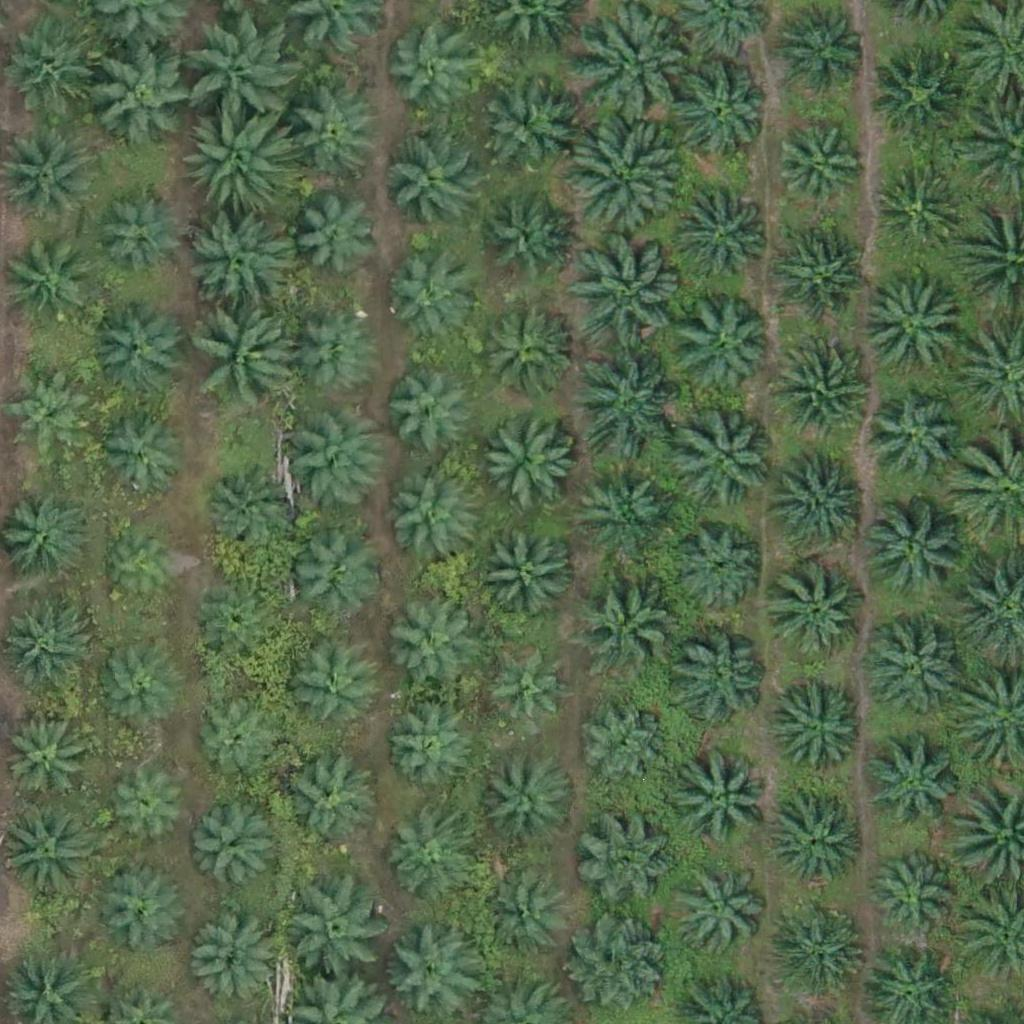Kelapa_Sawit: (566, 120, 679, 233), (579, 4, 692, 117), (184, 13, 297, 126), (567, 347, 679, 460), (573, 236, 685, 349), (467, 72, 579, 185), (181, 106, 293, 219), (196, 311, 296, 412), (203, 459, 303, 560), (276, 755, 376, 856), (291, 880, 391, 981), (381, 592, 481, 693), (476, 526, 576, 627), (478, 407, 578, 508), (474, 298, 574, 399), (573, 459, 673, 560), (576, 570, 676, 671), (575, 808, 675, 909), (573, 912, 673, 1013), (670, 293, 770, 394), (676, 747, 776, 848), (669, 862, 769, 963), (766, 790, 866, 891), (768, 561, 868, 662), (769, 337, 869, 438), (866, 388, 966, 489), (864, 498, 964, 599), (859, 734, 959, 835), (771, 225, 871, 326), (670, 58, 770, 159), (668, 184, 768, 285), (380, 132, 480, 233), (386, 21, 486, 122), (283, 82, 383, 183), (86, 302, 186, 402), (93, 406, 193, 506), (286, 413, 386, 513), (382, 918, 482, 1018), (675, 412, 775, 512), (666, 629, 766, 729), (774, 901, 874, 1001), (769, 677, 869, 777), (776, 448, 876, 548), (860, 279, 960, 379), (863, 616, 963, 716), (872, 45, 972, 145), (187, 214, 287, 314), (97, 51, 197, 151), (3, 18, 103, 118), (2, 498, 90, 587), (5, 241, 93, 329), (5, 368, 93, 456), (2, 604, 90, 692), (198, 583, 286, 671), (288, 310, 376, 398), (289, 531, 377, 619), (285, 643, 373, 731), (386, 368, 474, 456), (386, 475, 474, 563), (383, 708, 471, 796), (485, 752, 573, 840), (580, 702, 668, 790), (871, 164, 959, 252), (773, 126, 861, 214), (481, 193, 569, 281), (92, 194, 180, 282), (479, 645, 566, 734), (5, 718, 92, 806), (100, 864, 187, 952), (107, 760, 194, 848), (95, 637, 182, 725), (194, 700, 281, 788), (193, 809, 280, 897), (190, 917, 277, 1005), (382, 815, 469, 903), (480, 873, 567, 961), (675, 523, 762, 611), (869, 848, 956, 936), (379, 257, 466, 345), (290, 189, 377, 277), (105, 531, 180, 607)
